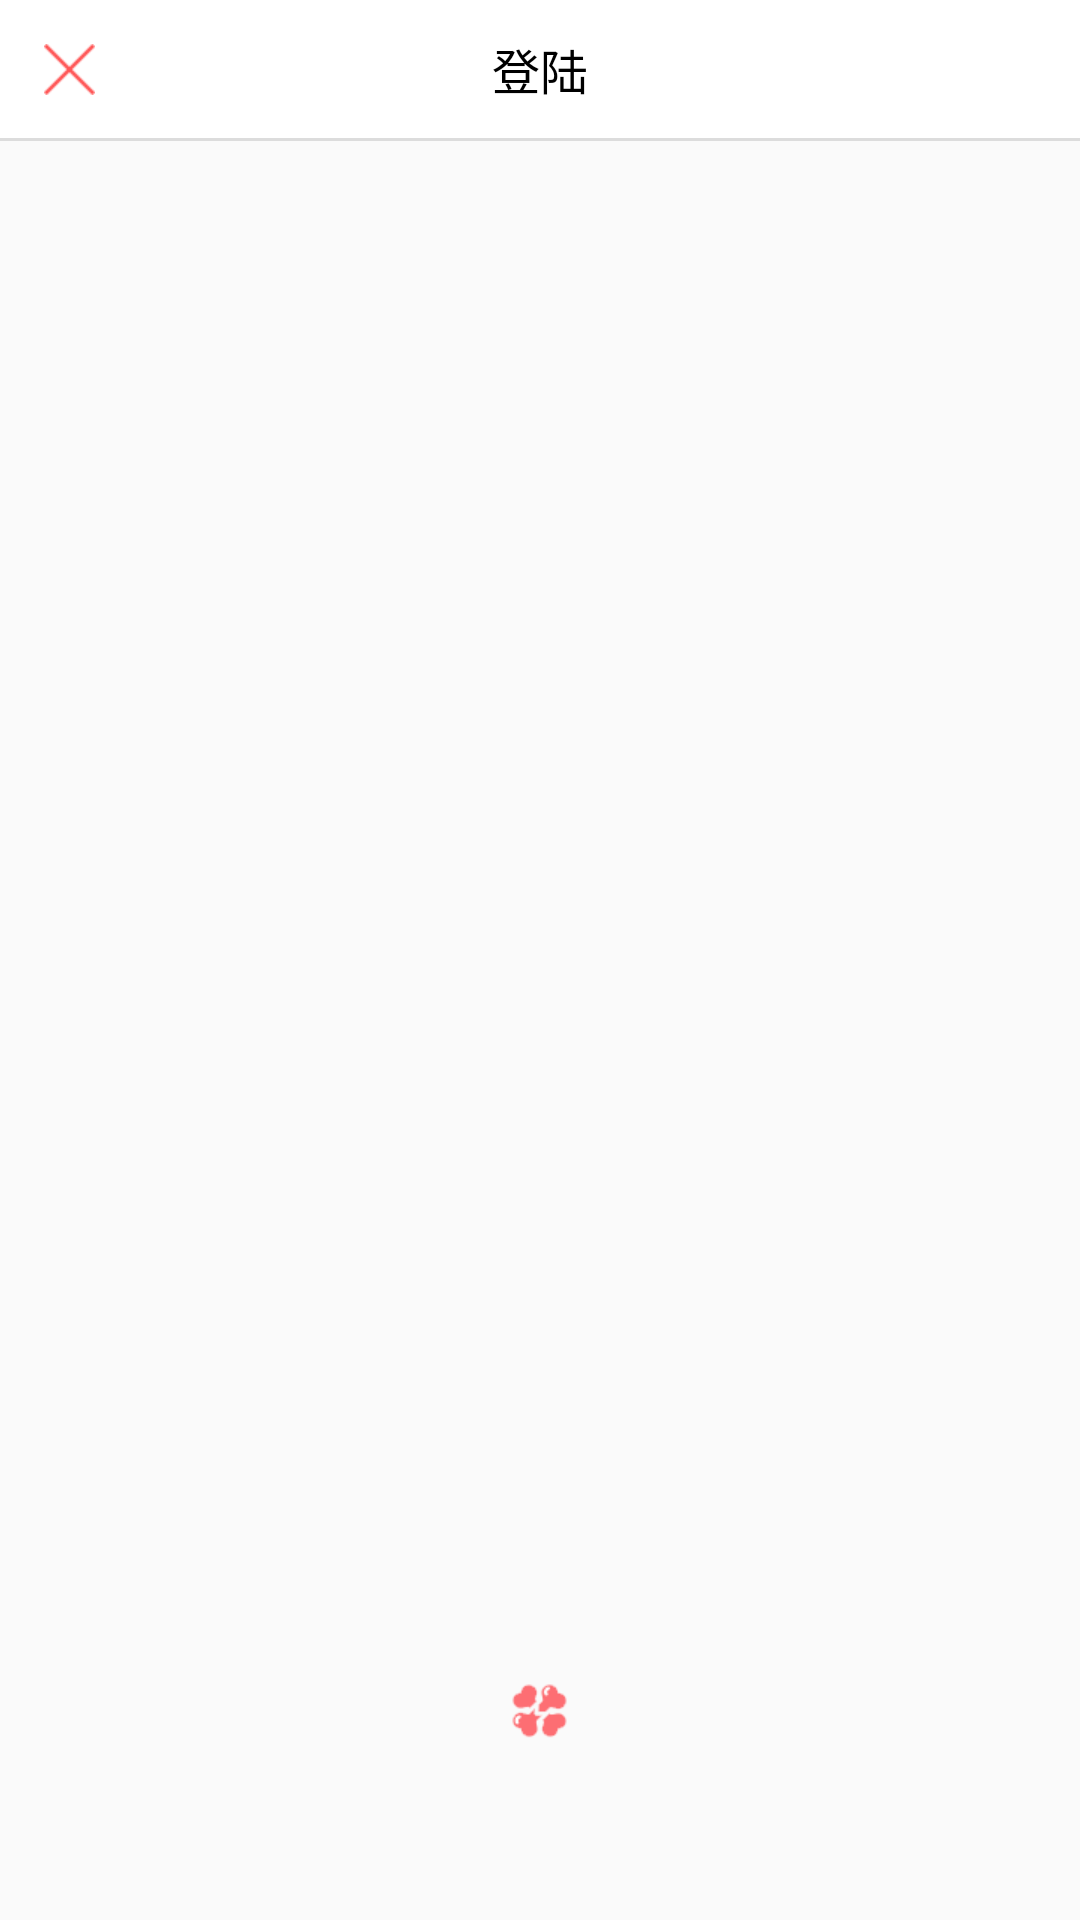

Icons on this 1080x1920 Android screen, each with its box as [x1, y1, x2, y2]:
close top: [44, 44, 95, 95]
